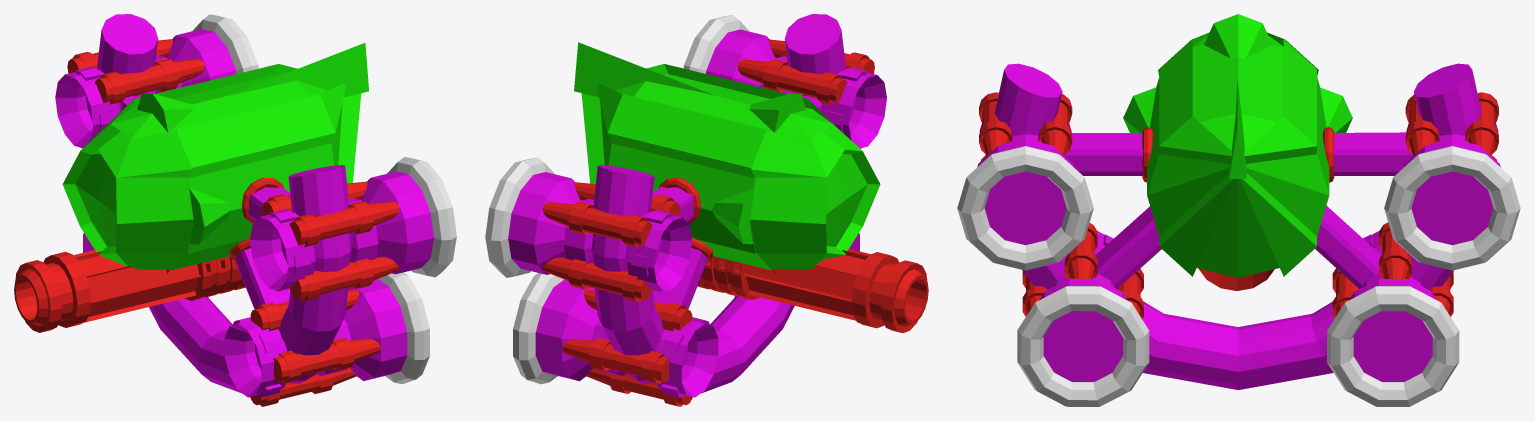
Rendered from Spaceship_bezkoloru.fbx.
3 renders of one model, left to right at view 1: azimuth 30°, elevation 25°; view 2: azimuth 150°, elevation 25°; view 3: azimuth 270°, elevation 25°, orthographic. The views are drawn at different scales.
Parts seen in each view (by area): view 1: Cylinder; view 2: Cylinder; view 3: Cylinder.
Part boxes in pixels (<box>): Cylinder: <box>14,14,456,406</box>; Cylinder: <box>485,14,928,406</box>; Cylinder: <box>957,14,1520,406</box>.
Size of the model in its own units: 470 by 406 by 618.
